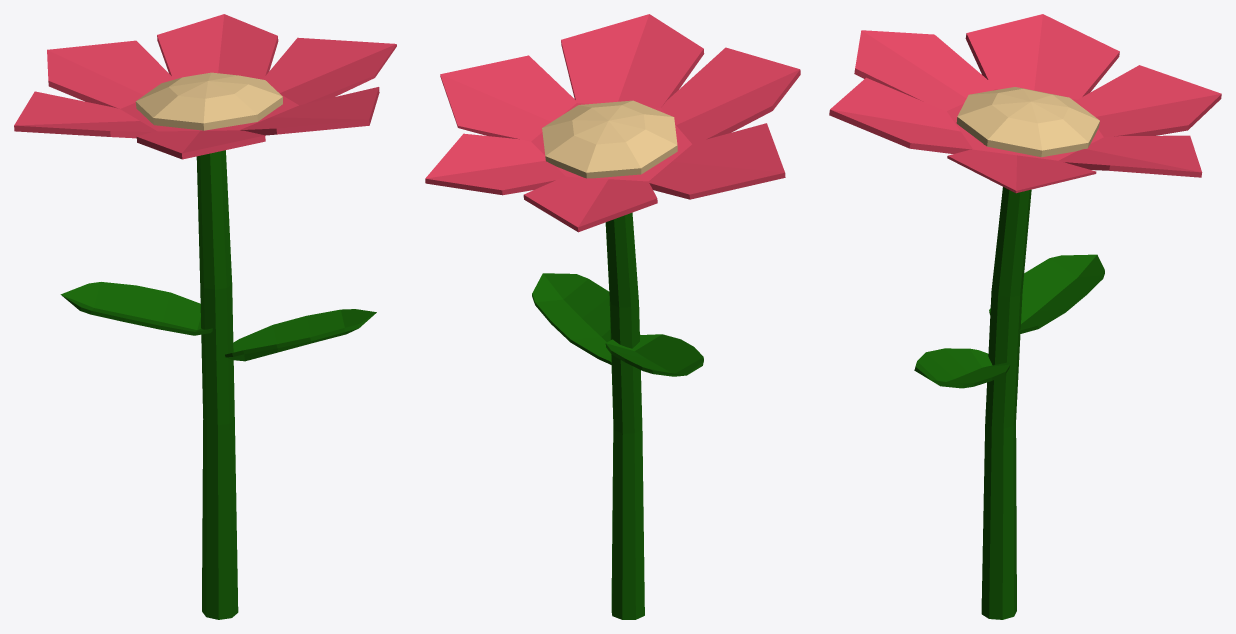
File: flower-5.glb
The picture shows the model from 3 angles, left to right: view 1: azimuth 30°, elevation 25°; view 2: azimuth 150°, elevation 25°; view 3: azimuth 270°, elevation 25°; orthographic projection. The views are drawn at different scales.
Visible parts, largest first — view 1: Flower 5; view 2: Flower 5; view 3: Flower 5.
Part boxes in pixels (<box>): Flower 5: <box>14,14,396,619</box>; Flower 5: <box>425,14,800,619</box>; Flower 5: <box>829,14,1221,619</box>.
Size of the model in its own units: 1.06 by 1.49 by 0.9898.
